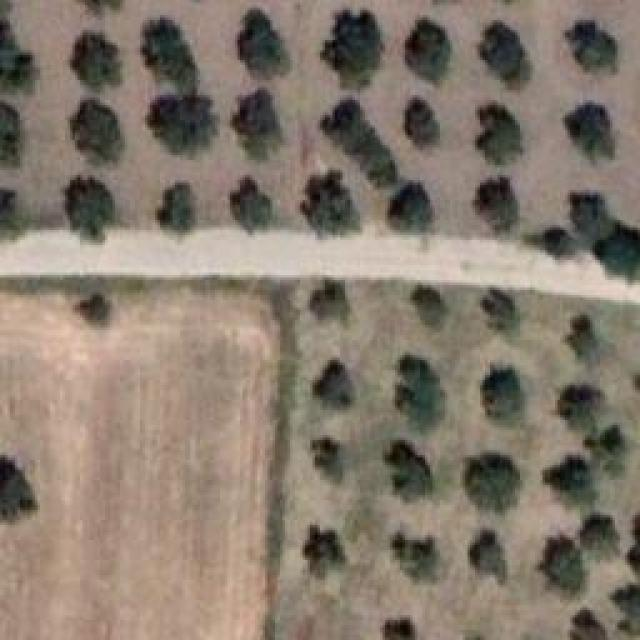Tree: (328, 98, 400, 192), (143, 92, 215, 161), (325, 10, 383, 83), (138, 18, 198, 88), (233, 88, 286, 163), (395, 355, 449, 427), (475, 365, 530, 435), (465, 445, 517, 519), (298, 170, 353, 237), (565, 12, 620, 79), (565, 95, 619, 163), (403, 17, 458, 83), (70, 33, 128, 95), (483, 20, 534, 88), (468, 102, 521, 166), (63, 173, 116, 235), (223, 167, 272, 232), (235, 15, 289, 73), (540, 537, 586, 604), (395, 95, 444, 154), (388, 444, 436, 504), (543, 455, 598, 507), (80, 103, 124, 165), (595, 220, 640, 278), (305, 518, 350, 575), (388, 525, 445, 570), (390, 180, 434, 238), (153, 180, 200, 233), (565, 180, 611, 234), (0, 23, 34, 96), (583, 518, 627, 572), (315, 358, 357, 414), (0, 457, 33, 525), (557, 383, 601, 434), (470, 183, 514, 233), (480, 288, 522, 337), (597, 433, 636, 483), (407, 278, 446, 327), (474, 533, 508, 588), (313, 433, 347, 484), (72, 287, 113, 329), (315, 282, 351, 323), (0, 100, 22, 166), (613, 583, 640, 636), (565, 308, 597, 352), (375, 612, 420, 640), (570, 612, 610, 640), (538, 225, 573, 256), (0, 185, 16, 234), (630, 513, 640, 573)
